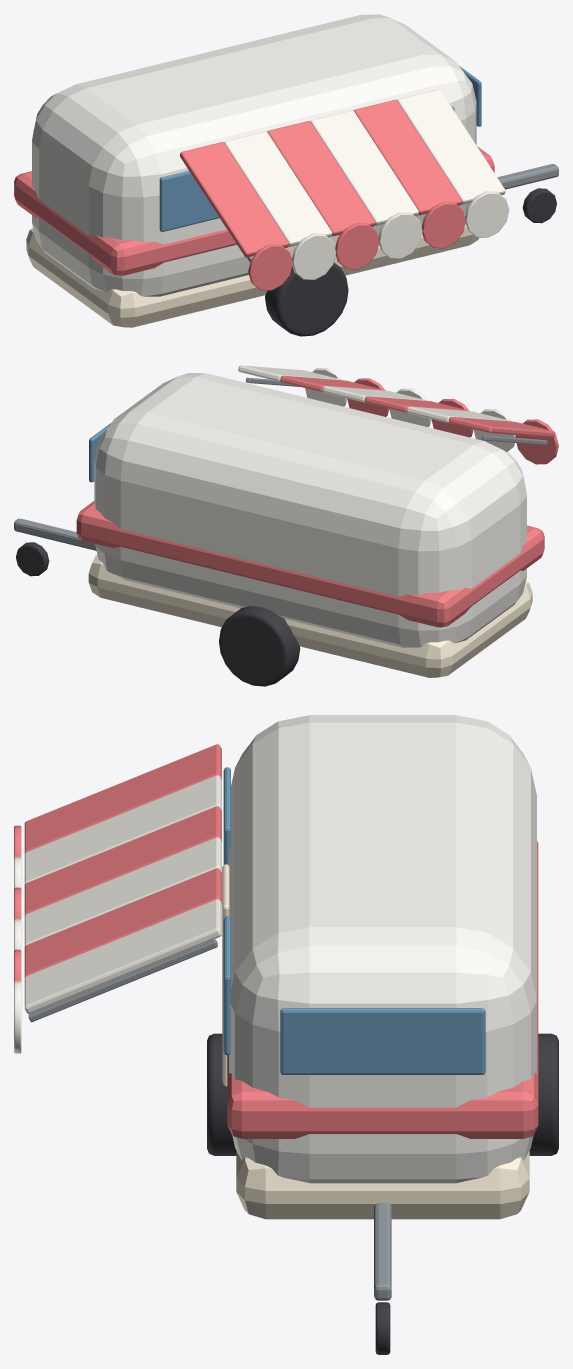
Rendered from caravan.fbx.
3 renders of one model, top to bottom at view 1: azimuth 30°, elevation 25°; view 2: azimuth 150°, elevation 25°; view 3: azimuth 270°, elevation 25°, orthographic. The views are drawn at different scales.
Visible parts, largest first — view 1: Visual; view 2: Visual; view 3: Visual.
Boxes of the visible parts, <box> form: Visual: <box>14,14,558,336</box>; Visual: <box>14,365,558,686</box>; Visual: <box>14,715,558,1354</box>.
Size of what is drawn, in the model's own units: 571 by 245 by 372.
